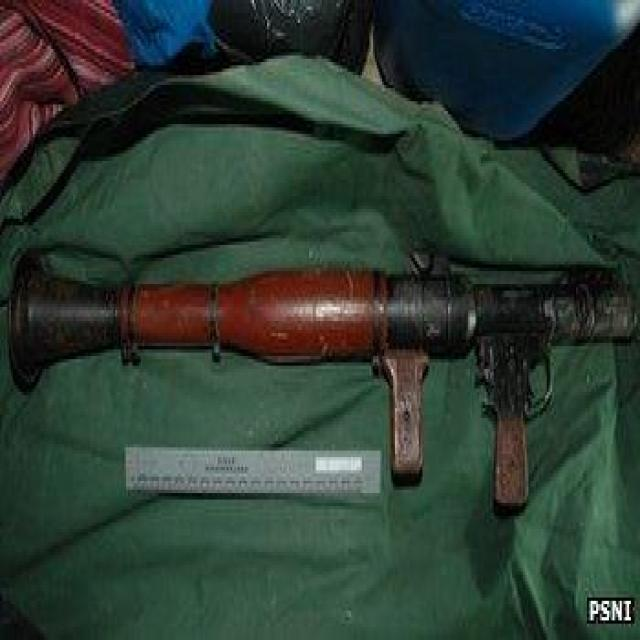bazooka: (5, 219, 640, 453)
